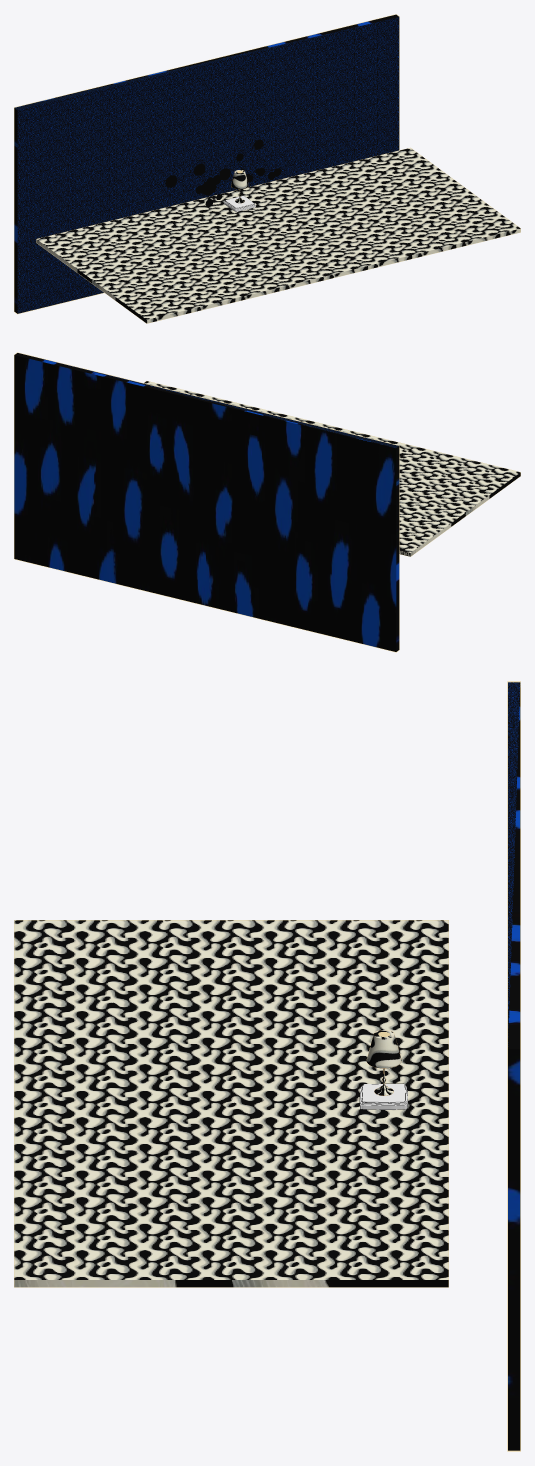
File: SceneLamp.glb
3 views of the same model, one above another, from view 1: azimuth 30°, elevation 25°; view 2: azimuth 150°, elevation 25°; view 3: azimuth 270°, elevation 25° (orthographic). The views are drawn at different scales.
Visible parts, largest first — view 1: Wall, floor; view 2: Wall, floor; view 3: floor, Wall, Lampshade.
Part boxes in pixels (x1=…): Wall: x1=14, y1=14, x2=399, y2=314; floor: x1=36, y1=147, x2=520, y2=323; Wall: x1=14, y1=352, x2=399, y2=652; floor: x1=144, y1=381, x2=520, y2=556; floor: x1=14, y1=920, x2=448, y2=1287; Wall: x1=507, y1=681, x2=520, y2=1451; Lampshade: x1=366, y1=1030, x2=401, y2=1068.
Bounding box in the file's own units: 24.68 × 12.61 × 14.39.
9 materials, 3 textured.
